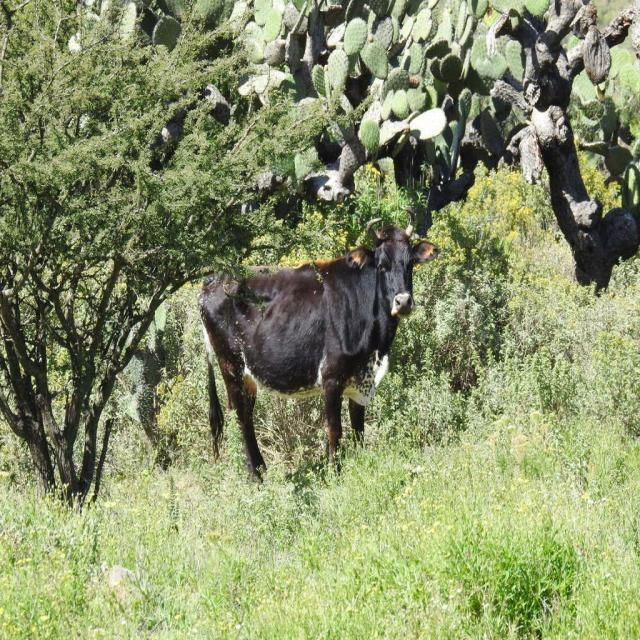cow: (200, 226, 438, 479)
